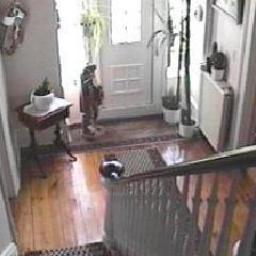Escaleras: (0, 203, 126, 256)
Matera: (158, 14, 186, 122), (175, 14, 197, 136)
Puerta: (101, 0, 158, 109)
